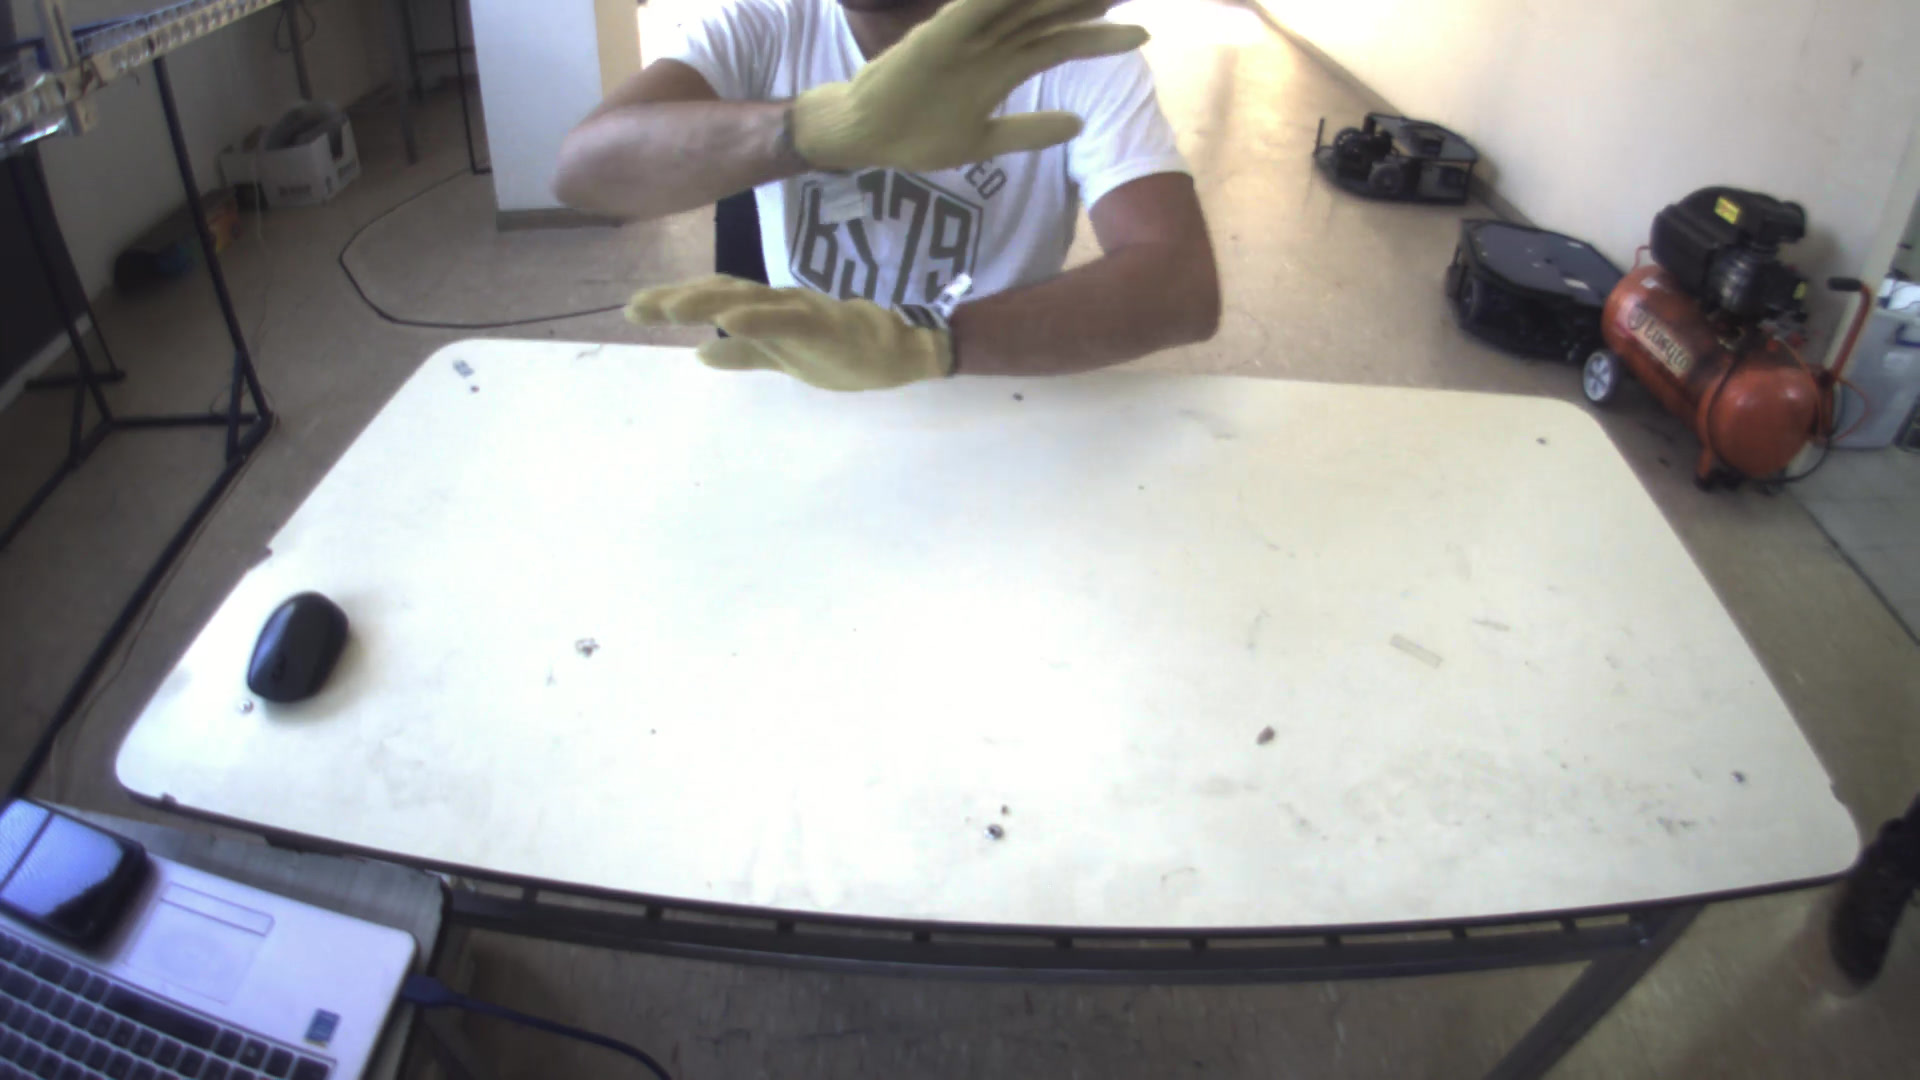hand: (790, 0, 1145, 181), (624, 255, 952, 397)
